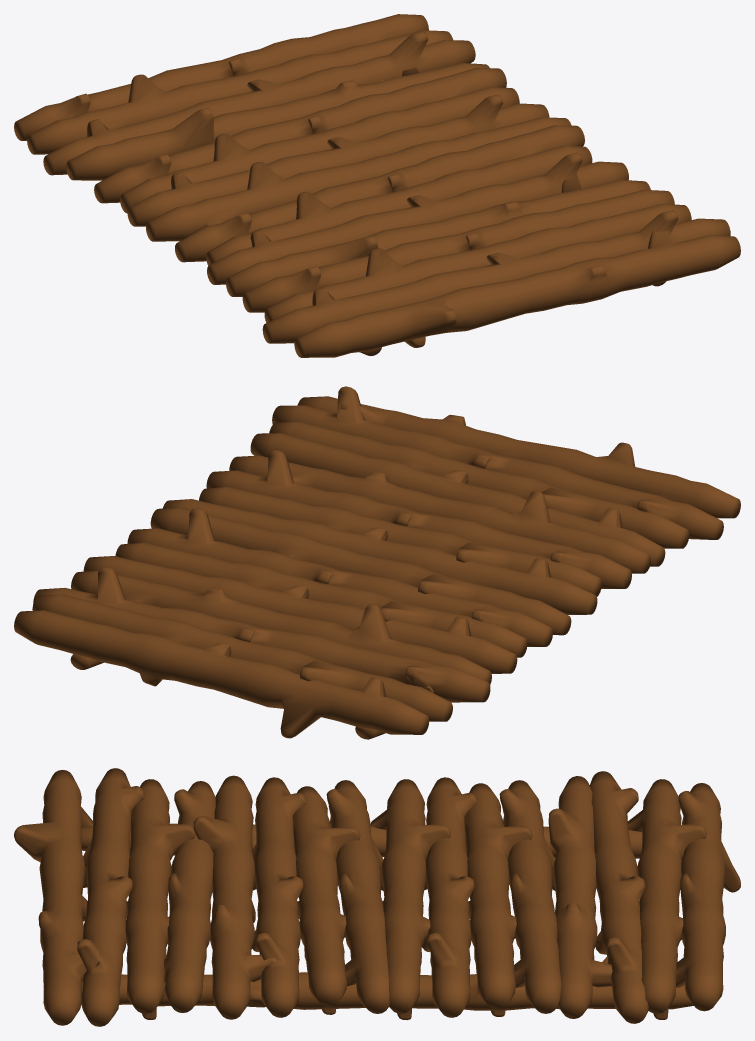
File: StickBridge.fbx
3 views of the same model, one above another, from view 1: azimuth 30°, elevation 25°; view 2: azimuth 150°, elevation 25°; view 3: azimuth 270°, elevation 25° (orthographic). The views are drawn at different scales.
Parts seen in each view (by area): view 1: Cylinder.020; view 2: Cylinder.020; view 3: Cylinder.020.
Part boxes in pixels (<box>): Cylinder.020: <box>14,14,740,357</box>; Cylinder.020: <box>14,386,740,739</box>; Cylinder.020: <box>14,768,740,1026</box>.
Size of the model in its own units: 193 by 33.07 by 250.
